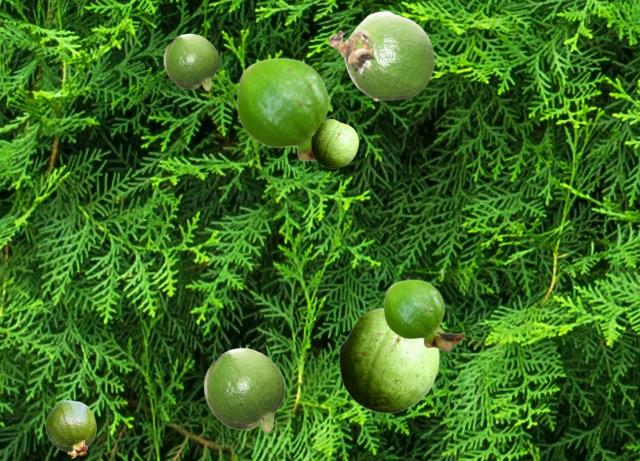guava: (236, 57, 359, 162), (339, 308, 438, 412), (328, 10, 434, 100), (203, 347, 284, 432), (383, 279, 464, 350), (163, 33, 218, 90), (45, 400, 95, 457), (311, 119, 357, 167)
